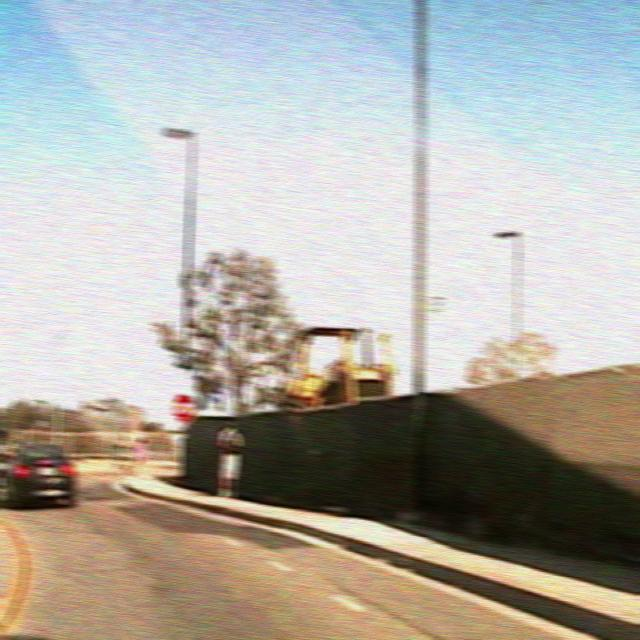stop_sign: (171, 392, 196, 423)
